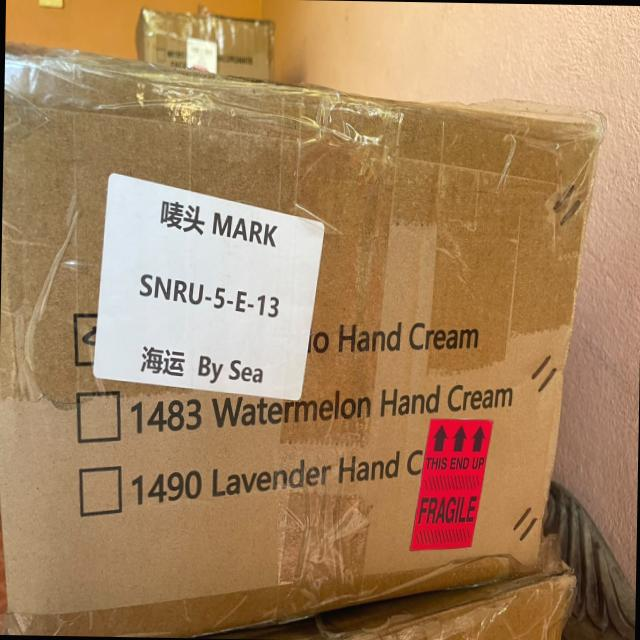carton_box: (0, 31, 606, 640)
export_mark_label: (91, 167, 328, 412)
fragile_label: (411, 483, 482, 553)
this_side_up_label: (421, 408, 494, 478)
